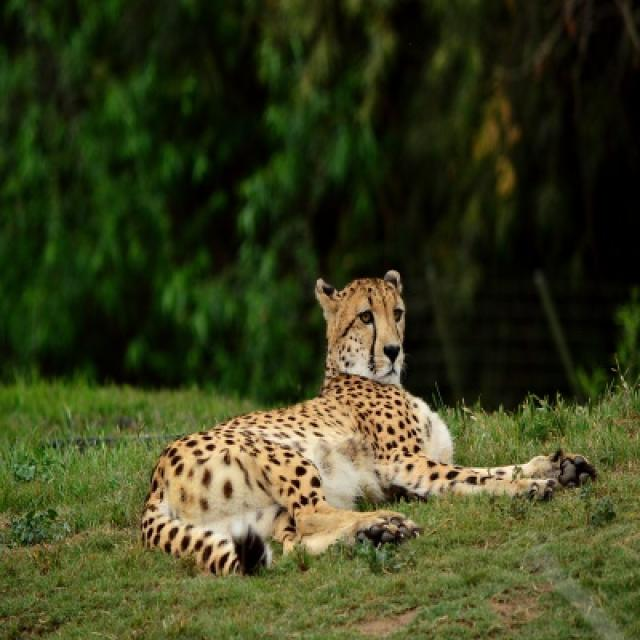Cheetah: (142, 270, 595, 573)
